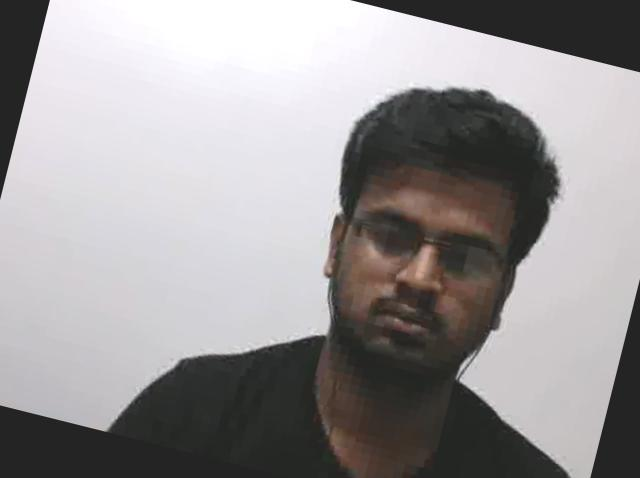bosan: (317, 156, 519, 388)
